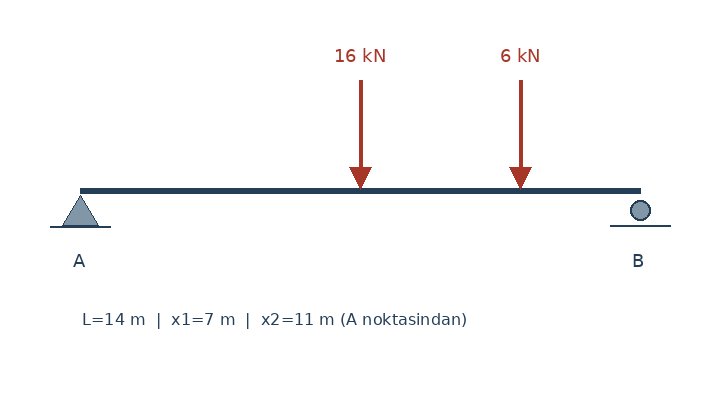pin_support: (61, 190, 99, 226)
point_load: (346, 76, 374, 190), (506, 76, 534, 190)
roller_support: (625, 196, 655, 227)
